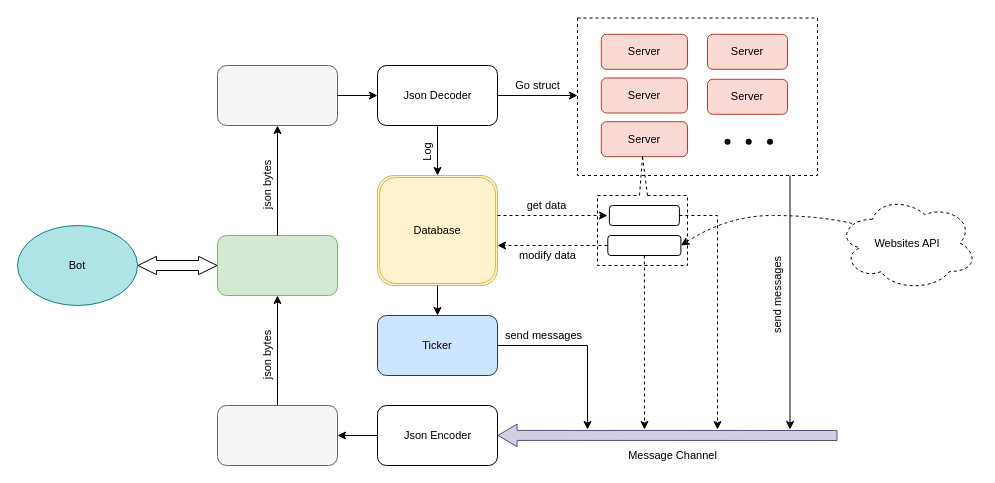
Some shapes in this 995 by 483 pixel diagram are drawn without their labels. The shapes that lost their labels are listed below. From the top down, each one's box as (x1, y1, x2, y2) in pixels, then its label:
(216, 64, 338, 126): Listener
(608, 204, 679, 226): Replier
(216, 234, 338, 296): Mirai socket server
(607, 234, 681, 256): Commander
(216, 404, 338, 466): Writer
